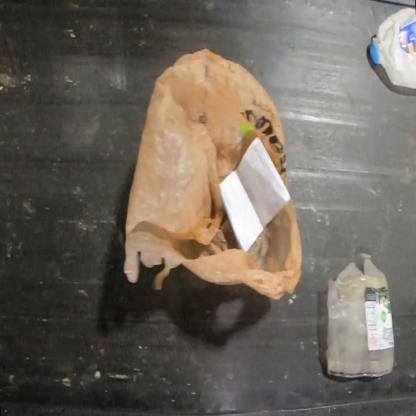rigid_plastic: (326, 258, 396, 380), (369, 7, 415, 91)
soft_plastic: (123, 47, 303, 301)
